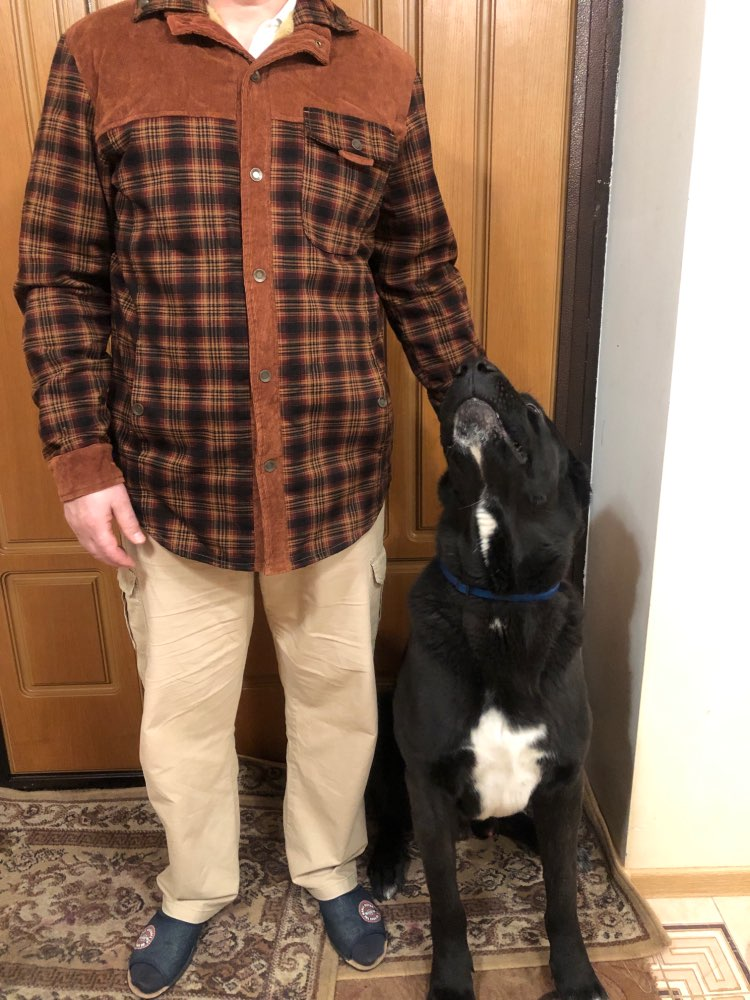shirts: (16, 2, 484, 576)
